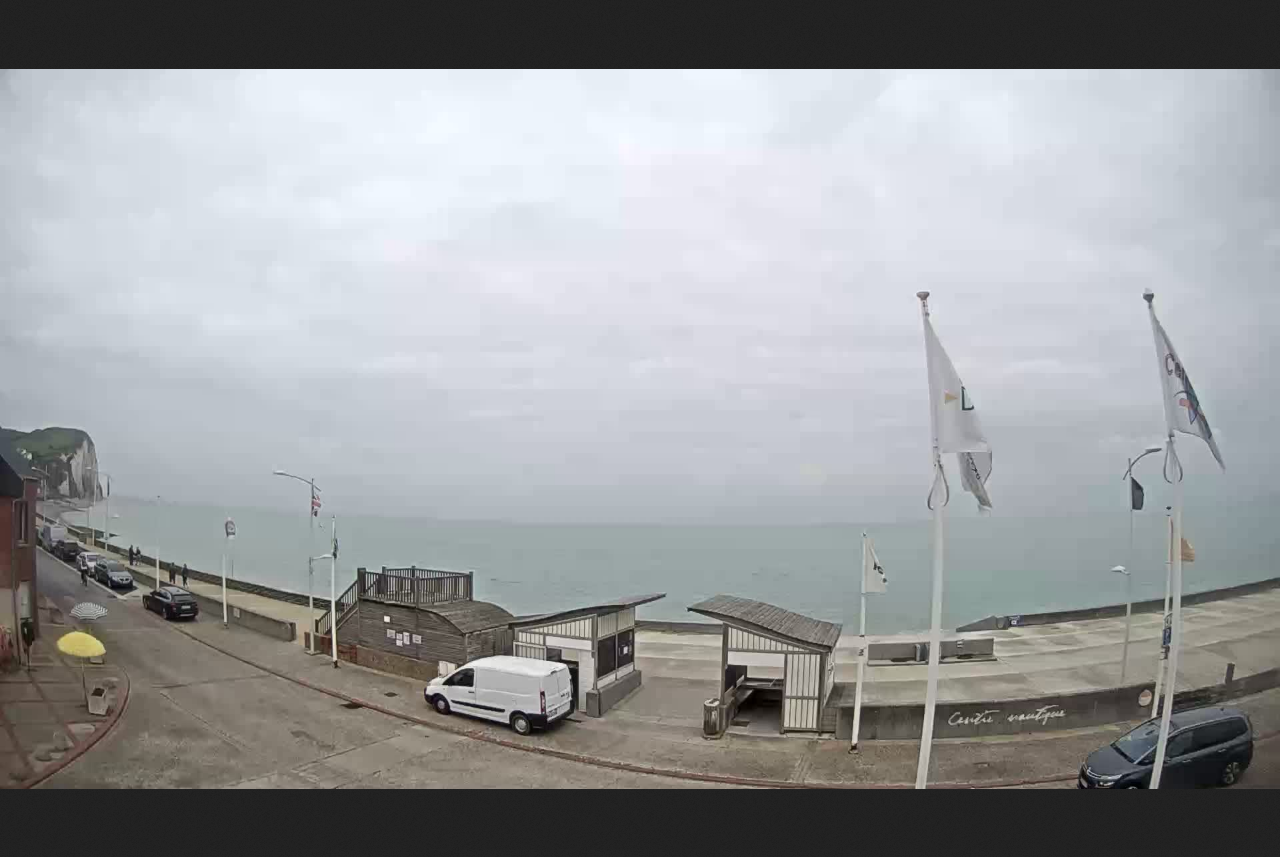maybe: (923, 318, 999, 513), (1147, 307, 1229, 470)
